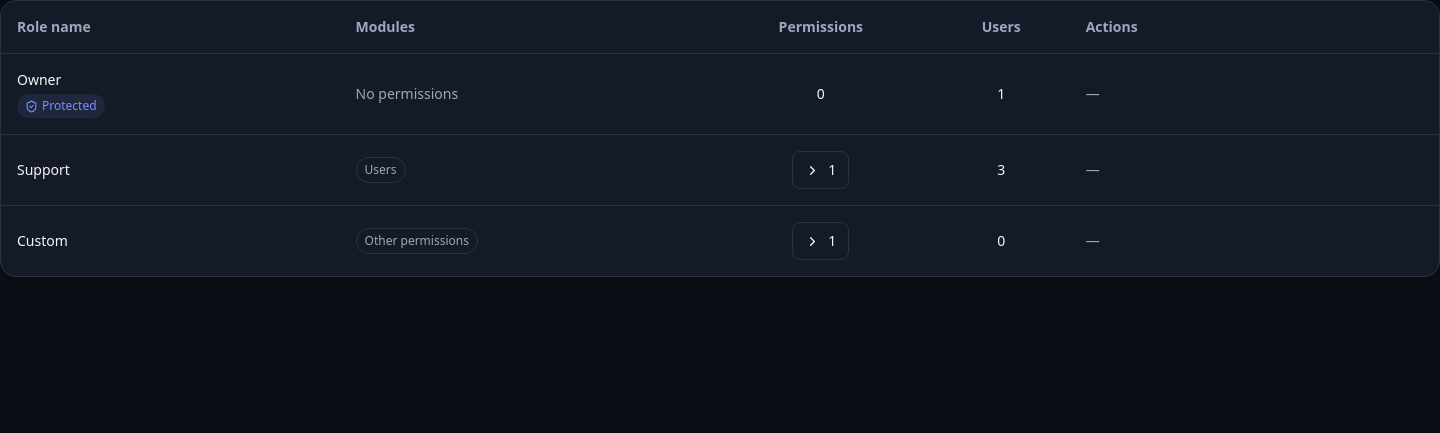
Test: Compact role list › expands translated permission details and preserves unknown permissions
expect the text "user:read" is not shown: met
Click the button named "Show permissions for Support": (821, 170) [792,151,849,189]
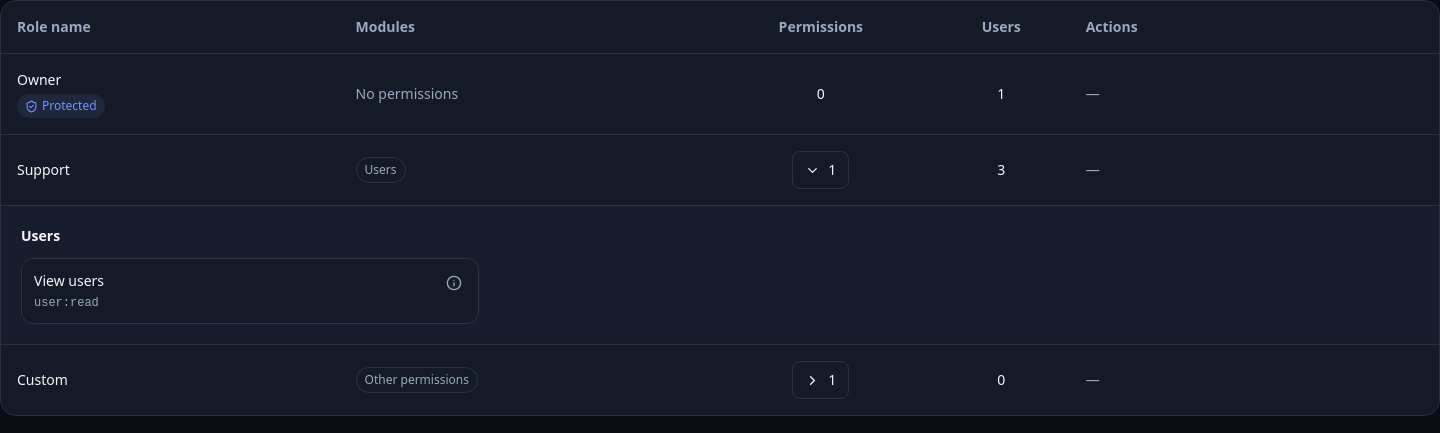
expect the button named "Show permissions for Support" is expanded: met, box [792,151,849,189]
expect the text "View users" is shown: met, box [34,271,104,291]
expect the text "user:read" is shown: met, box [34,295,104,311]
Click the button named "About permission: View users": (454, 283) [442,271,466,295]
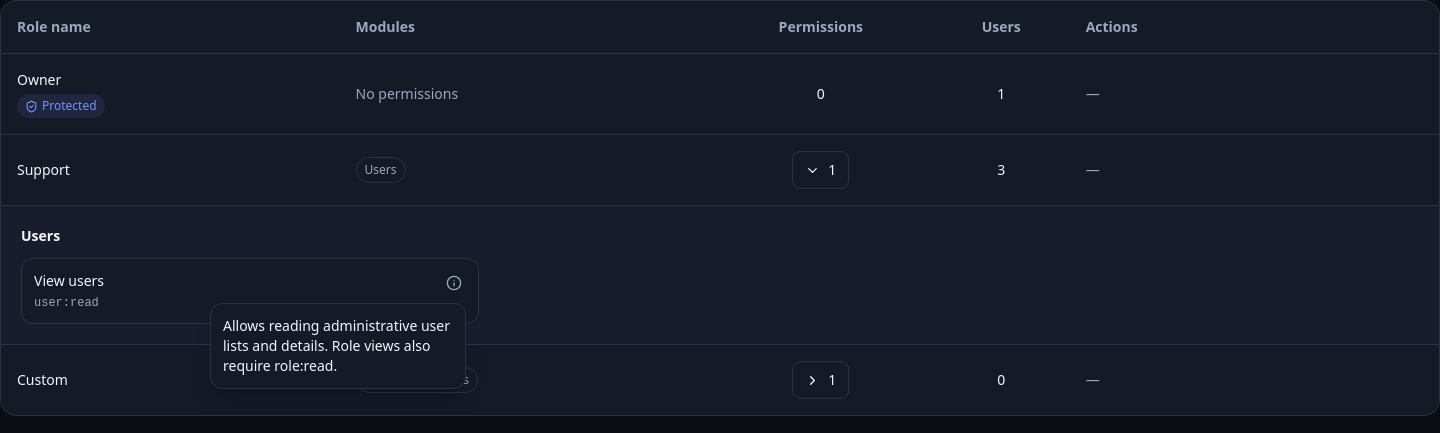
expect the tooltip shows "administrative user lists": met, box [223,316,450,375]
Click the button named "Hide permissions for Support": (821, 170) [792,151,849,189]
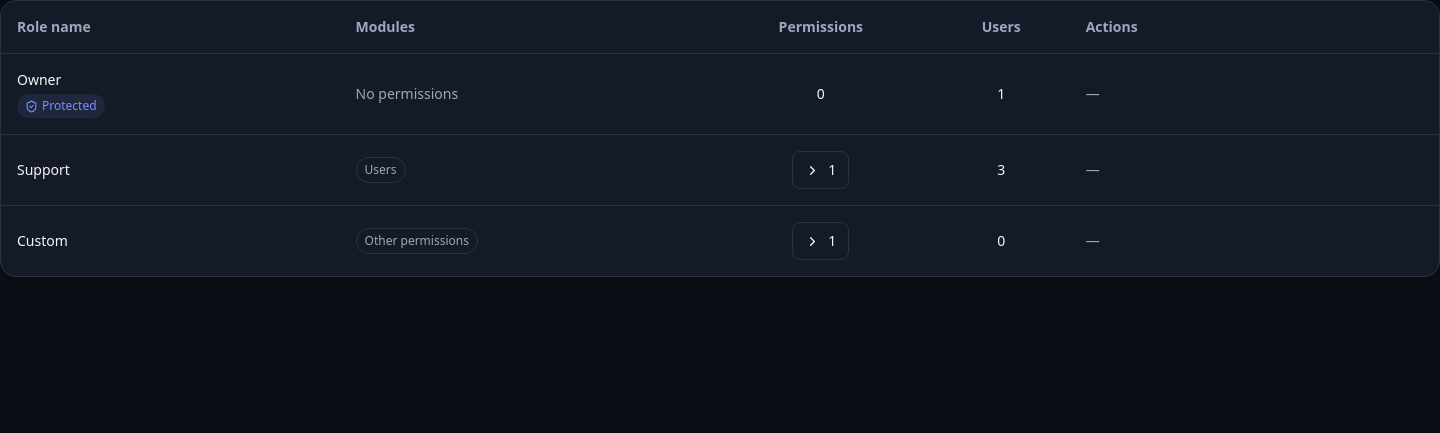
expect the text "user:read" is gone: met
Click the button named "Show permissions for Custom": (821, 241) [792,222,849,260]
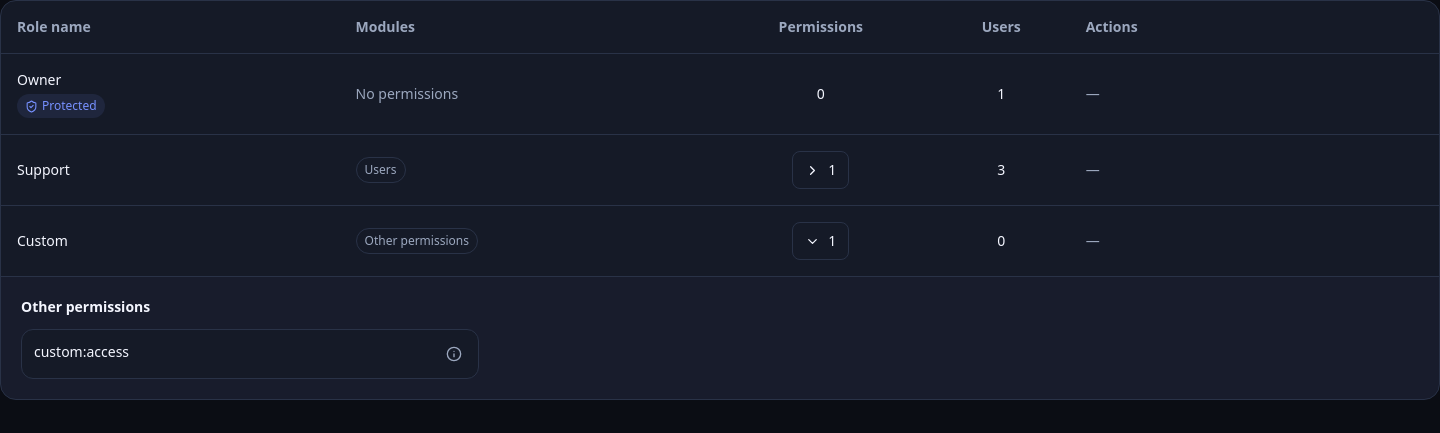
expect the text "custom:access" is shown: met, box [34,342,129,362]
